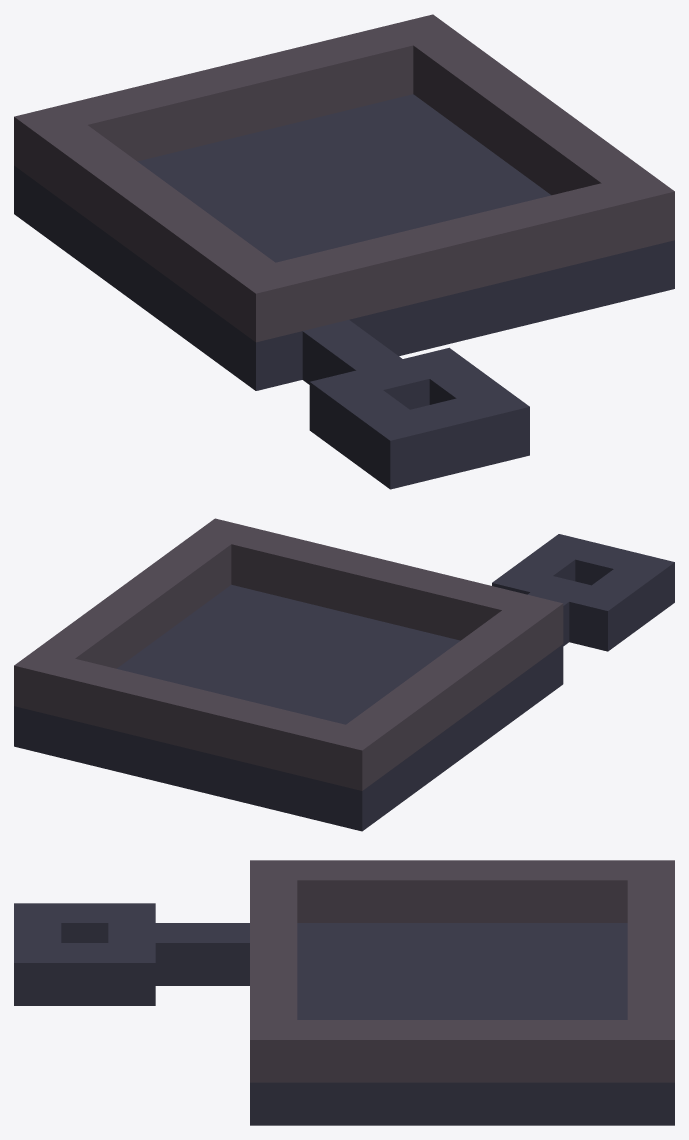
The model's file is Sign-Base.obj.
The picture shows the model from 3 angles, top to bottom: view 1: azimuth 30°, elevation 25°; view 2: azimuth 150°, elevation 25°; view 3: azimuth 270°, elevation 25°; orthographic projection. The views are drawn at different scales.
Bounding box in the file's own units: 0.9 × 0.2 × 1.4.
